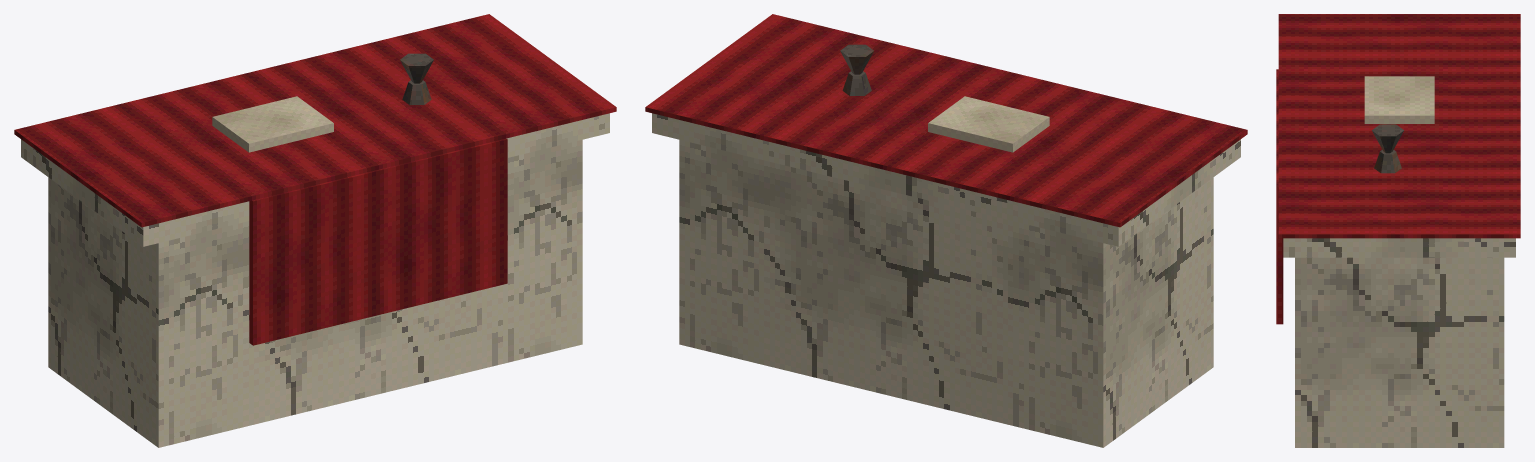
File: altar.obj
3 views of the same model, side by side, from view 1: azimuth 30°, elevation 25°; view 2: azimuth 150°, elevation 25°; view 3: azimuth 270°, elevation 25° (orthographic). The views are drawn at different scales.
Parts seen in each view (by area): view 1: altar; view 2: altar; view 3: altar.
Boxes of the visible parts, x1,y1,x2,y2 form: altar: (14,14,616,447); altar: (645,14,1247,447); altar: (1276,14,1520,447).
Bounding box in the file's own units: 2.24 × 1.25 × 1.05.
Materials: 4 (4 with a texture image).
